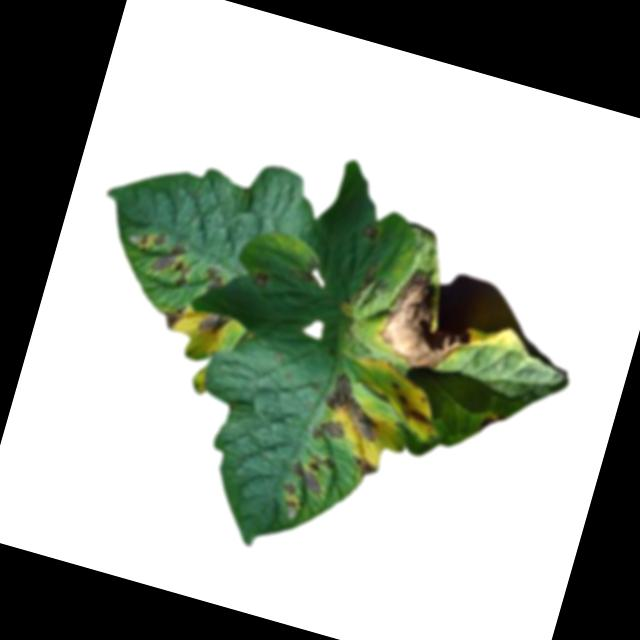Early_blight: (373, 266, 484, 383), (315, 367, 391, 445), (272, 446, 337, 526), (123, 224, 200, 290), (382, 380, 439, 430), (195, 308, 235, 342), (309, 415, 345, 446), (346, 452, 380, 482), (159, 300, 188, 332), (201, 267, 227, 295), (249, 267, 272, 294), (479, 414, 500, 441), (358, 223, 379, 244)
